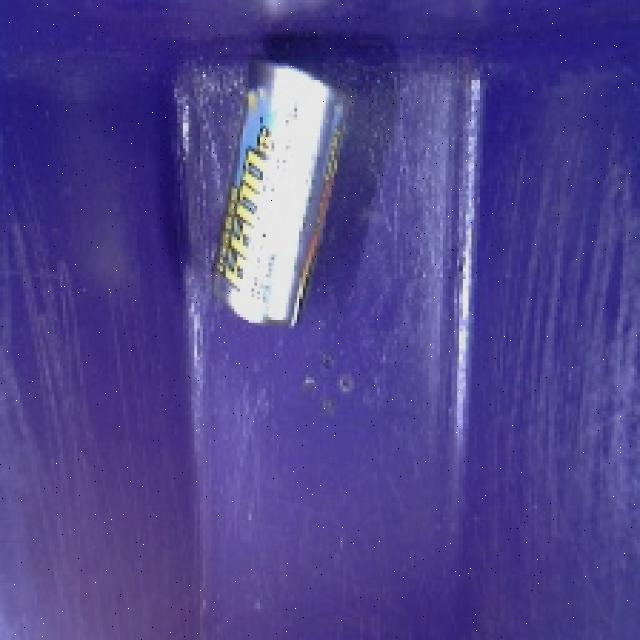battery: (207, 46, 364, 344)
